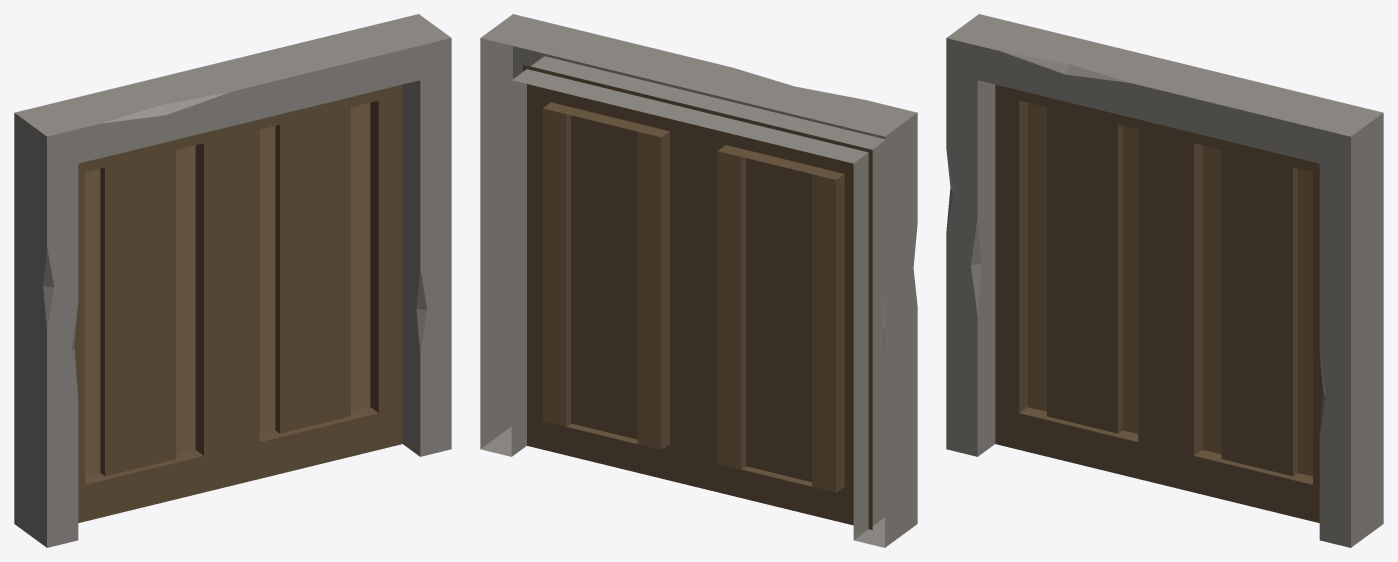
Rendered from SM_Env_Door_01.fbx.
3 renders of one model, left to right at view 1: azimuth 30°, elevation 25°; view 2: azimuth 150°, elevation 25°; view 3: azimuth 330°, elevation 25°, orthographic.
Parts seen in each view (by area): view 1: SM_Env_Door_01; view 2: SM_Env_Door_01; view 3: SM_Env_Door_01.
Boxes of the visible parts, <box> form: SM_Env_Door_01: <box>14,14,451,547</box>; SM_Env_Door_01: <box>480,14,917,547</box>; SM_Env_Door_01: <box>946,14,1383,547</box>.
Size of the model in its own units: 172 by 167 by 24.21.
Materials: 1 (1 with a texture image).
